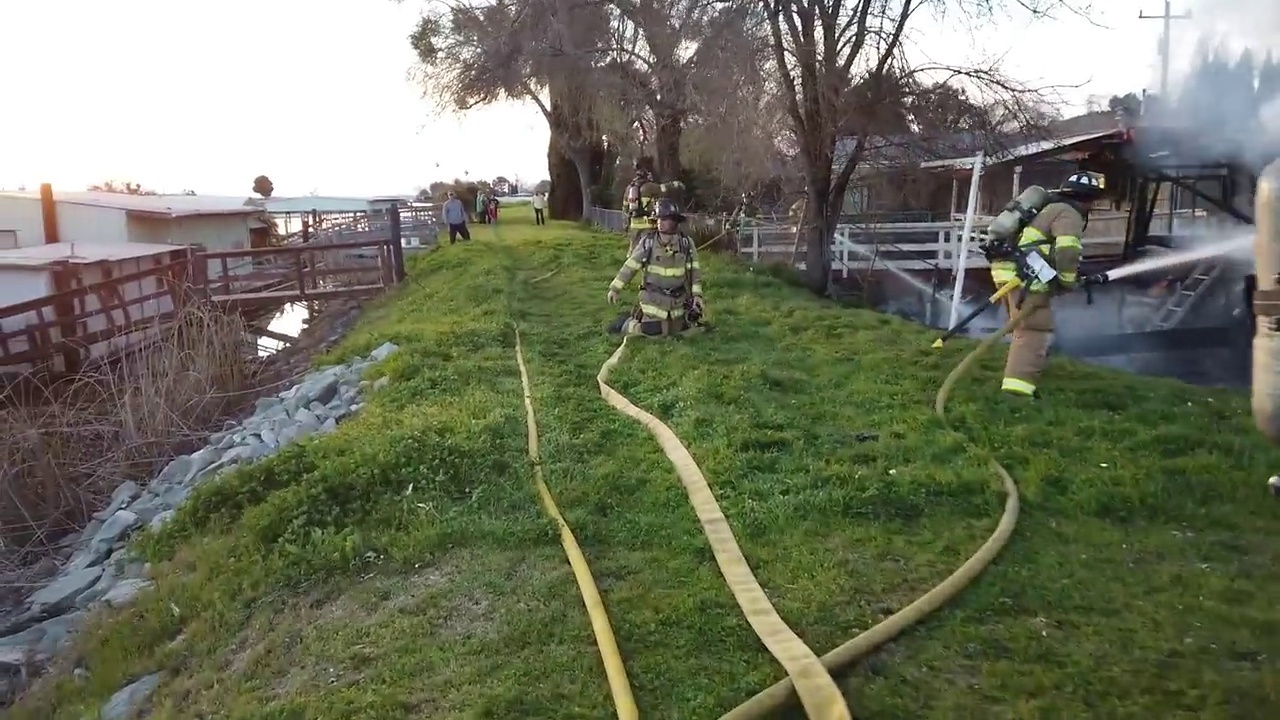smoke: (1134, 1, 1280, 168), (1058, 286, 1245, 390)
